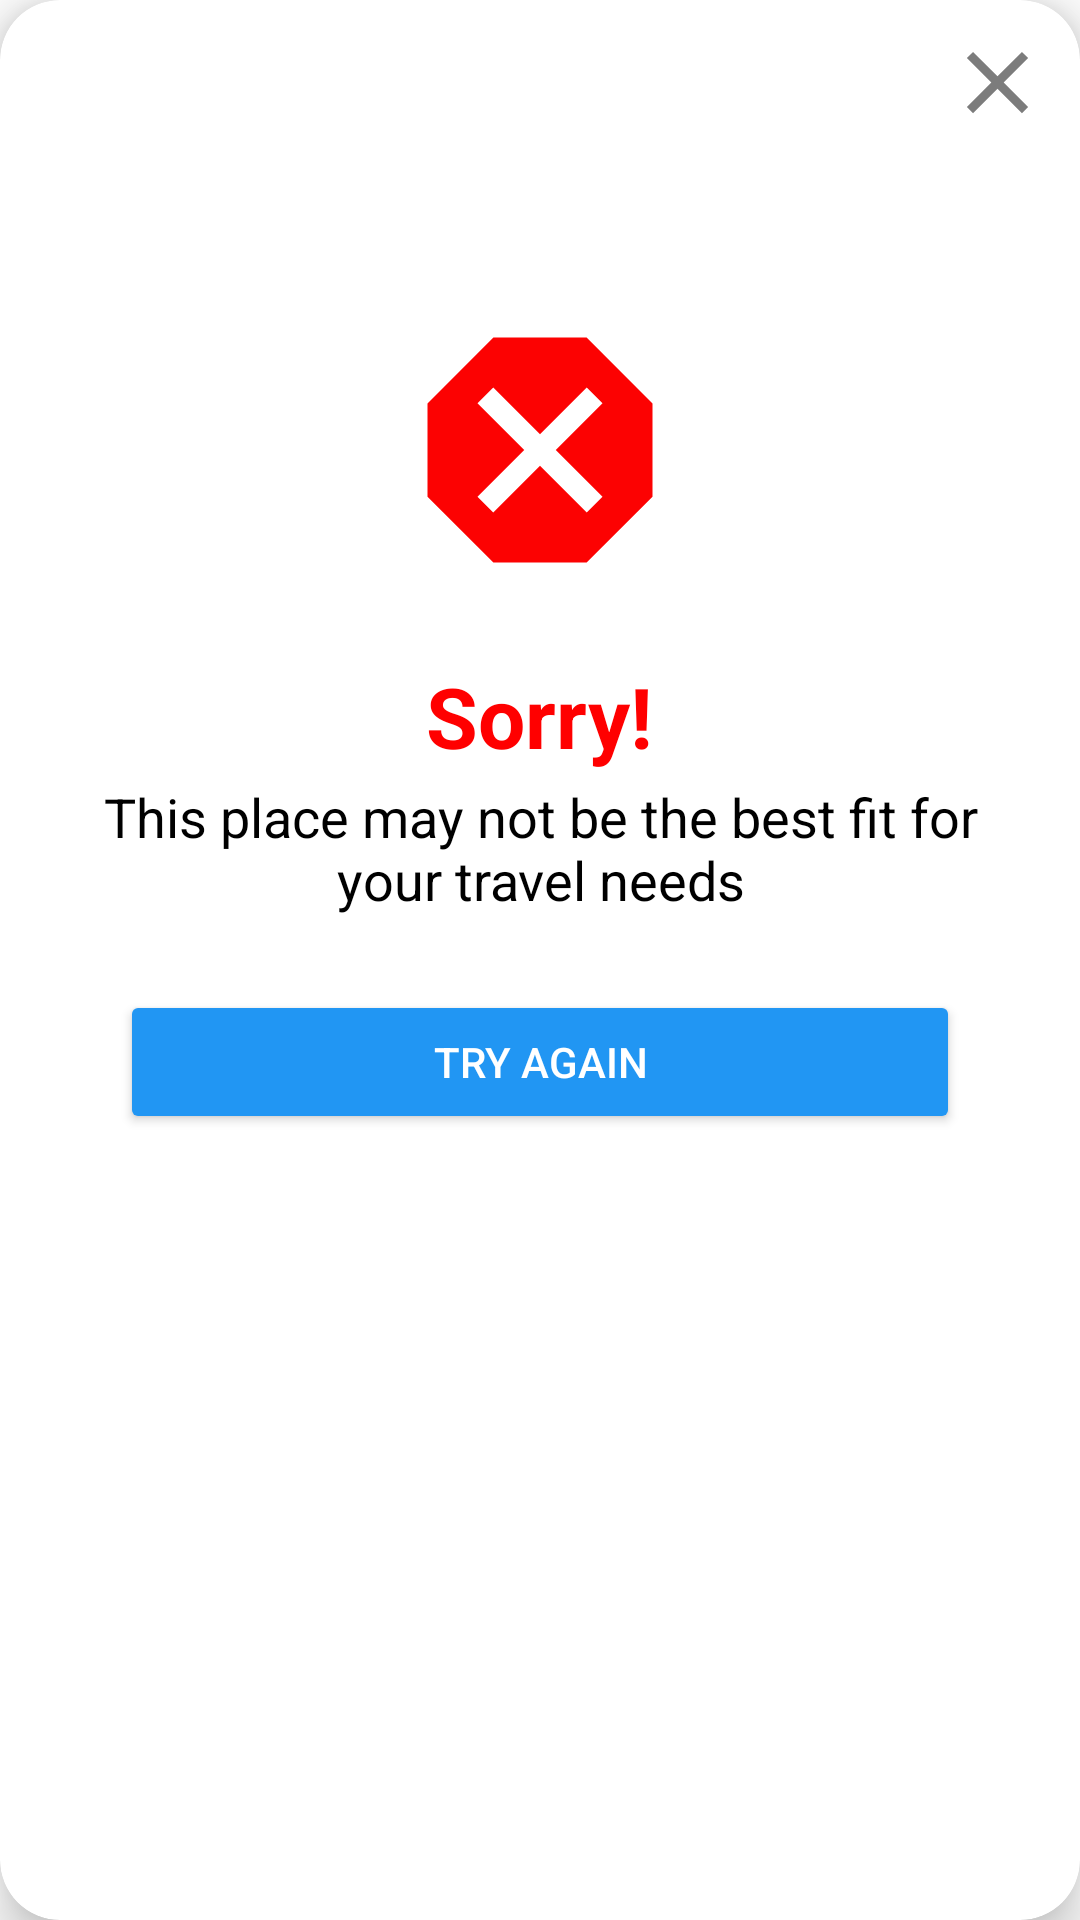

Locate icon controls on the screen. Image size 1080px x 1920px, boxes as [left=x1, top=y1, right=x2, bottom=y2].
close: [left=967, top=52, right=1028, bottom=113]
error: [left=427, top=337, right=653, bottom=563]
